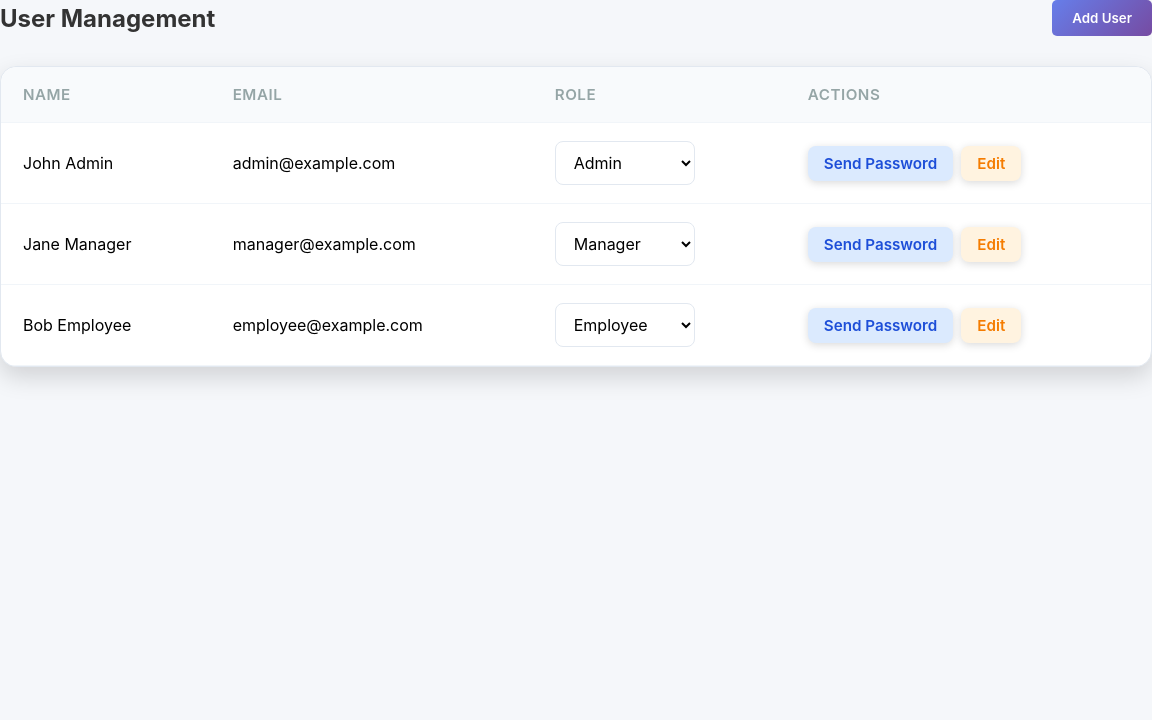
Scenario: UserManagement › opens add user modal when add user button is clicked
This screenshot has width=1152, height=720.
Click the button "Add User" at coordinates (1102, 18), box [1052,0,1151,36]
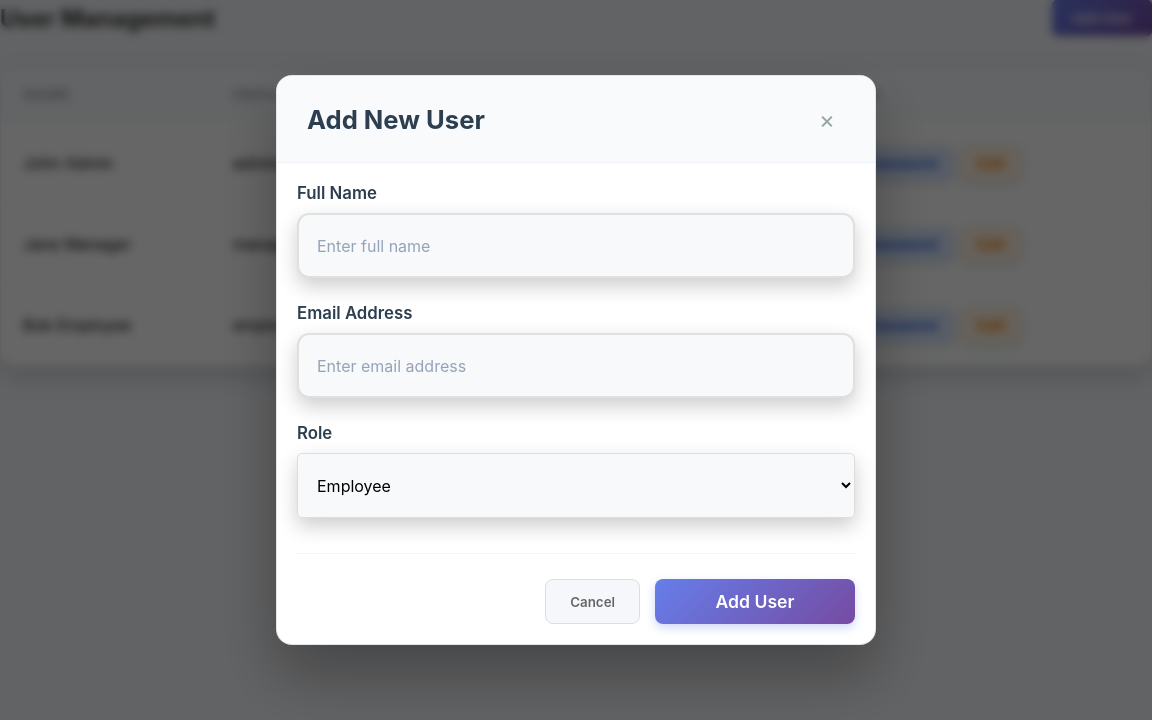
Expected: the heading "Add New User" is shown, [307,104,485,134]
Expected: the field labelled "Full Name" is shown, [297,213,855,278]
Expected: the field labelled "Email Address" is shown, [297,333,855,398]
